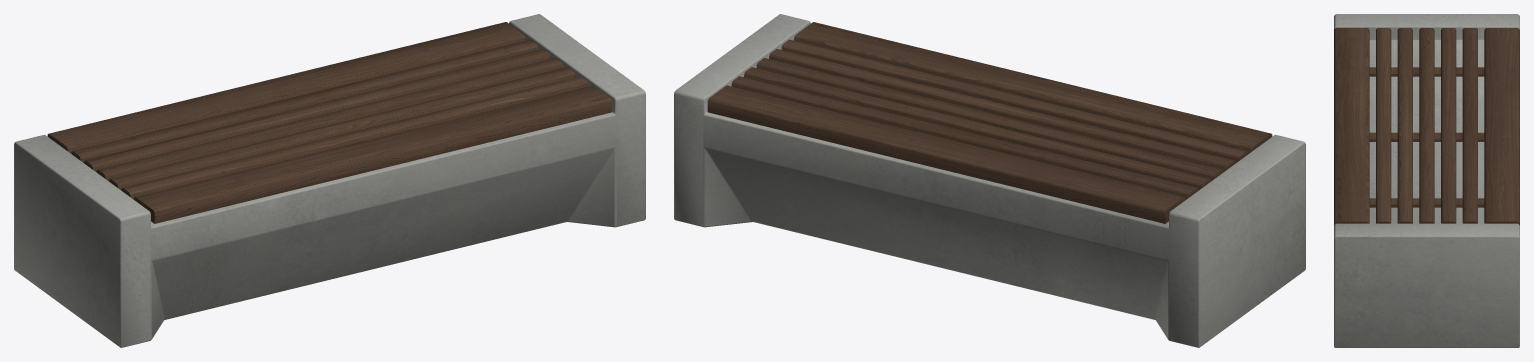
Rendered from Bench.fbx.
The picture shows the model from 3 angles, left to right: view 1: azimuth 30°, elevation 25°; view 2: azimuth 150°, elevation 25°; view 3: azimuth 270°, elevation 25°; orthographic projection. The views are drawn at different scales.
Visible parts, largest first — view 1: bench; view 2: bench; view 3: bench.
Boxes of the visible parts, x1,y1,x2,y2 form: bench: (14, 14, 645, 347); bench: (674, 14, 1305, 347); bench: (1334, 14, 1519, 347).
Size of the model in its own units: 198 by 46.57 by 69.87.
Materials: 2 (2 with a texture image).
